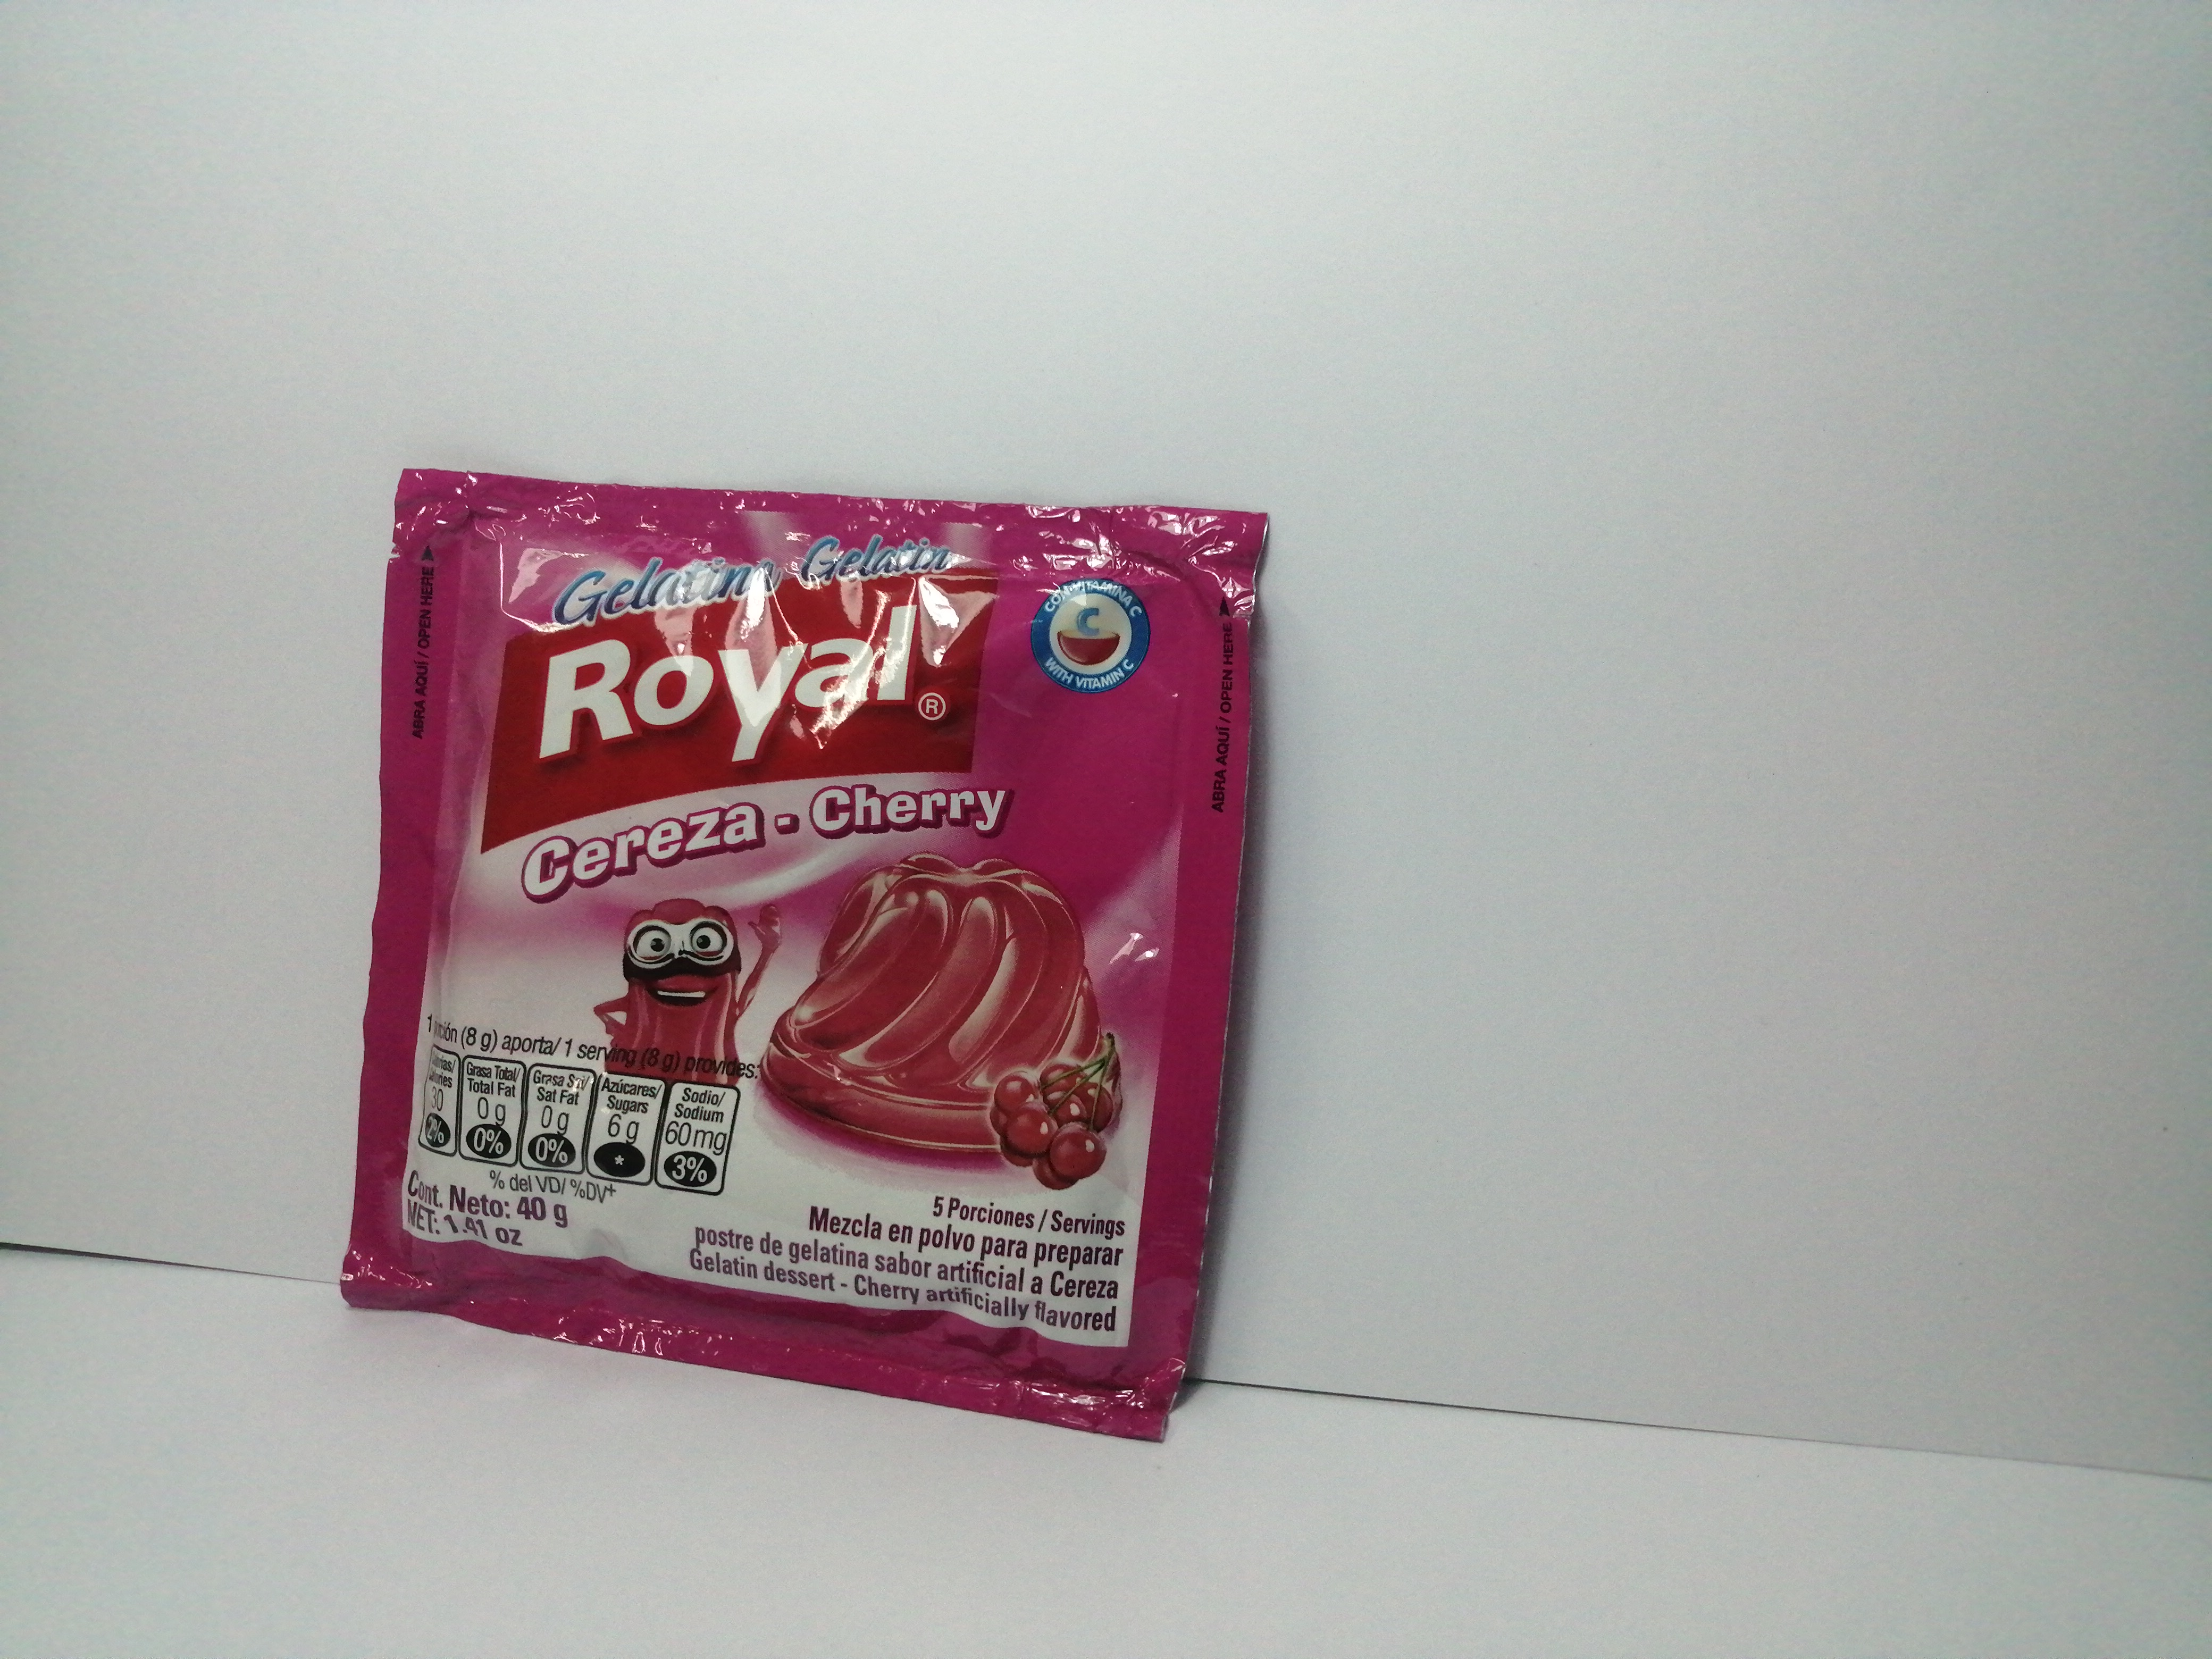gelatina: (338, 472, 1270, 1452)
